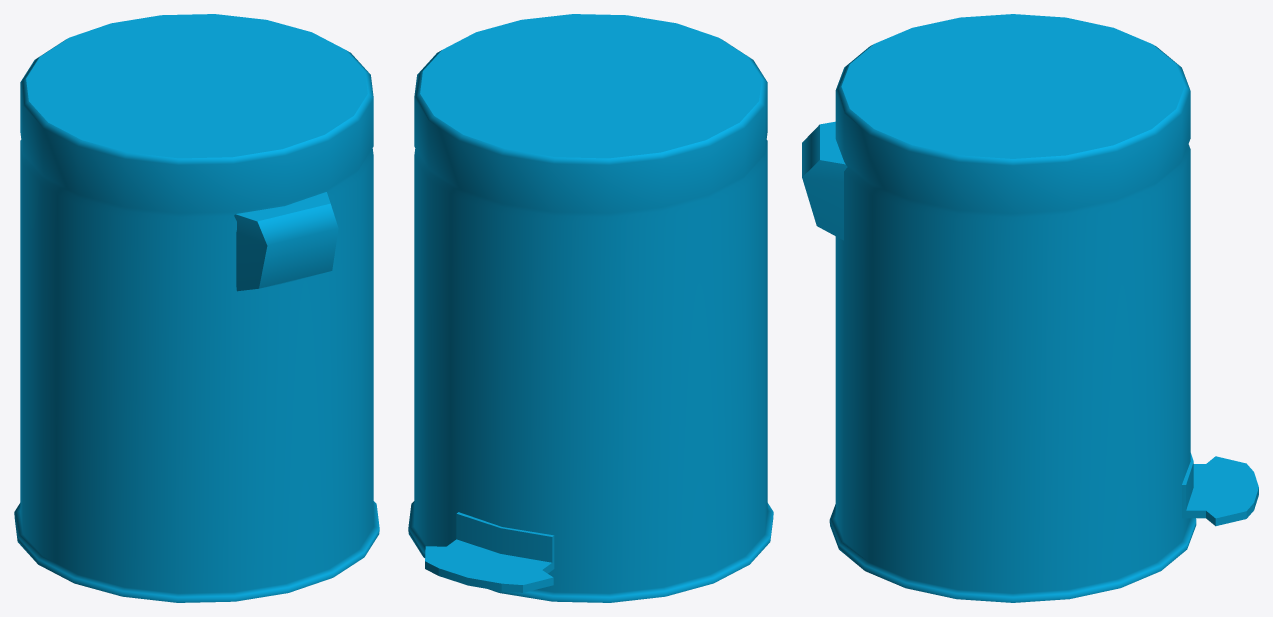
The model's file is Trash_Can_02_Lod0.fbx.
3 renders of one model, left to right at view 1: azimuth 30°, elevation 25°; view 2: azimuth 150°, elevation 25°; view 3: azimuth 270°, elevation 25°, orthographic.
Parts seen in each view (by area): view 1: Trash_Can_02_Lod0; view 2: Trash_Can_02_Lod0; view 3: Trash_Can_02_Lod0.
Part boxes in pixels (x1,y1,x2,y2): Trash_Can_02_Lod0: [14, 14, 379, 602]; Trash_Can_02_Lod0: [408, 14, 773, 602]; Trash_Can_02_Lod0: [802, 14, 1258, 602].
Size of the model in its own units: 30.12 by 39.77 by 37.51.
